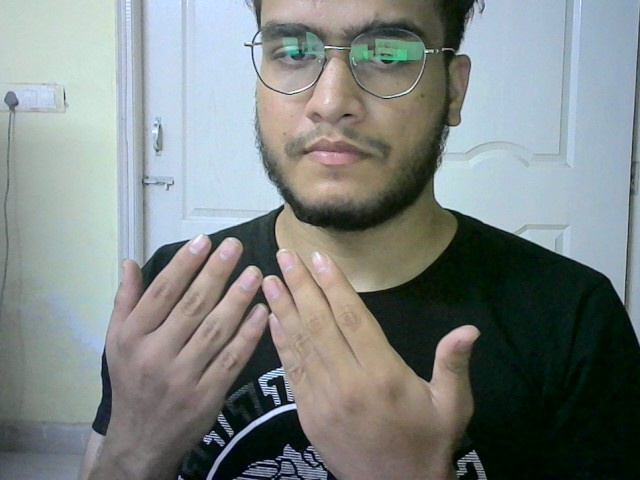Thank You: (110, 230, 486, 460)
